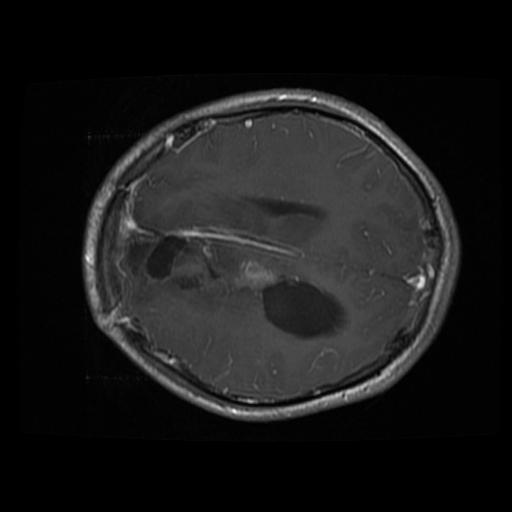glioma: (260, 279, 345, 340)
